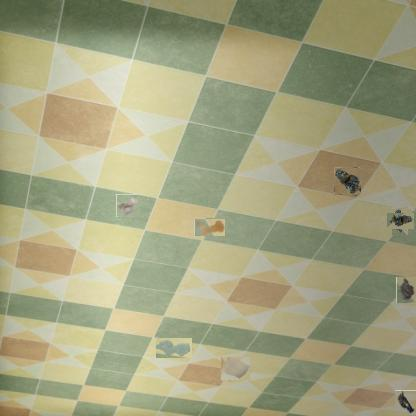dirty: (222, 358, 252, 382), (334, 168, 360, 195), (394, 390, 416, 415), (116, 194, 139, 217), (396, 277, 415, 303), (390, 210, 412, 232)
liquid: (156, 338, 192, 358), (194, 218, 225, 236)
